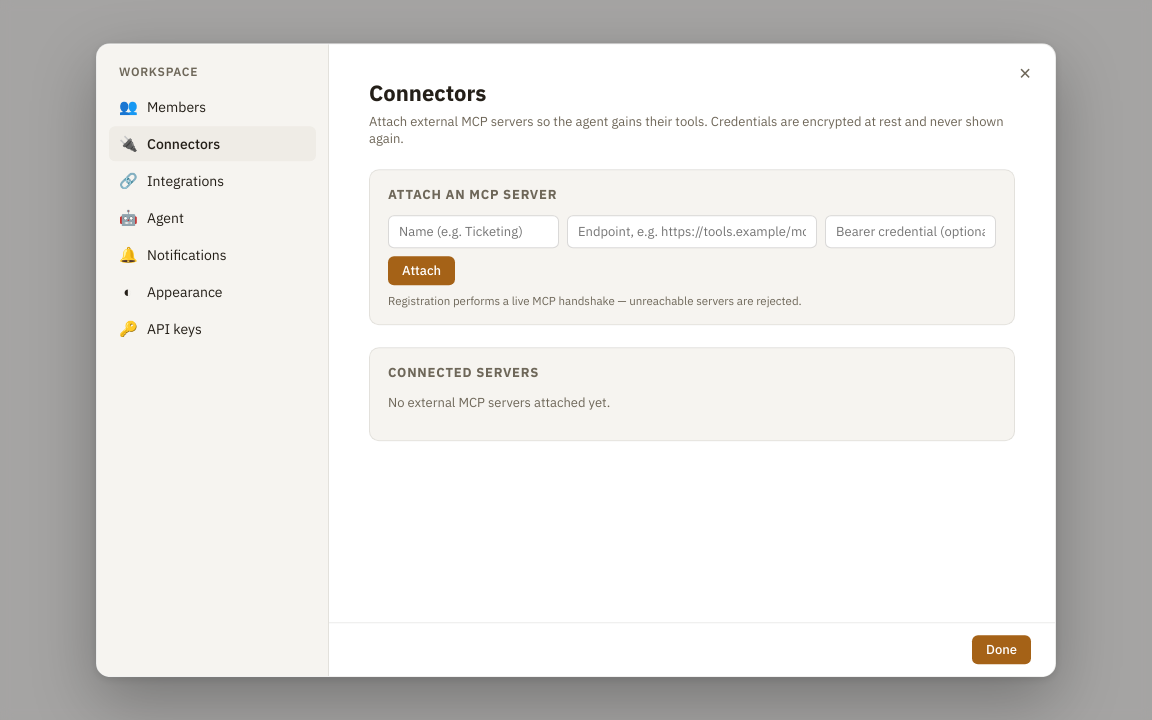
Scenario: SettingsModal › members tab lists members with owner-only role and remove controls
Click the button with test id "settings-tab-members": (212, 107) [109, 89, 316, 124]
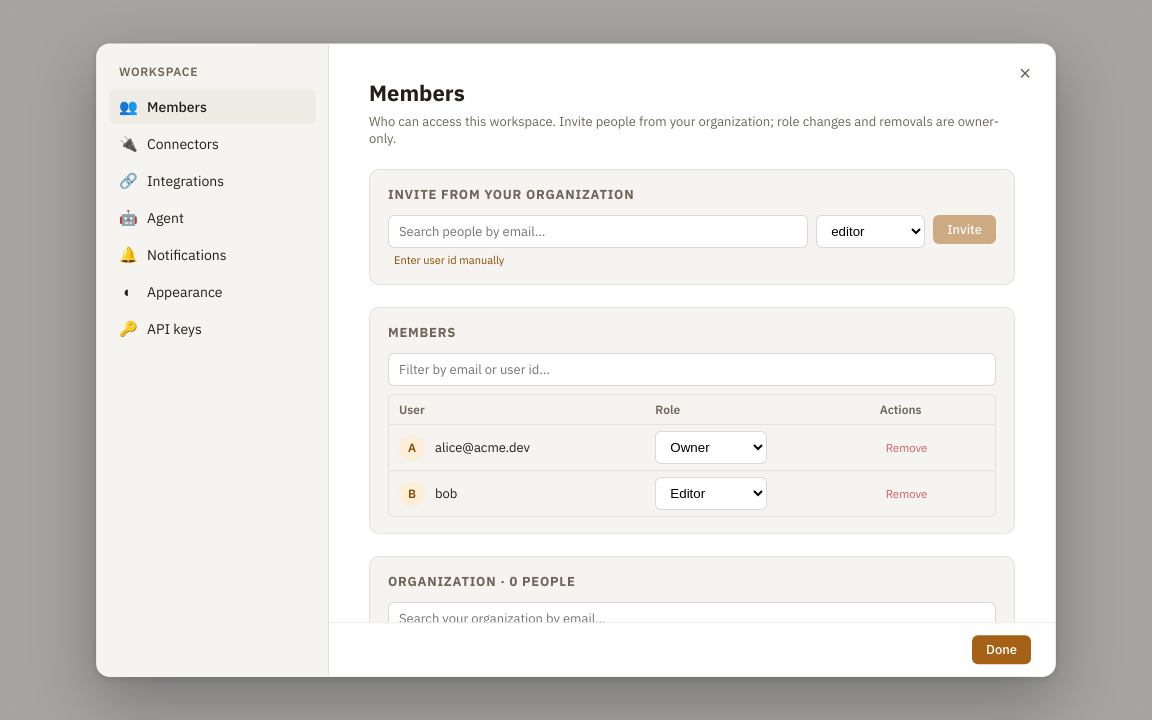
Result: the number of rows with test id "member-row" is 2 at [389, 425, 995, 471]; [389, 471, 995, 516]
Result: the row with test id "member-row" shows "alice@acme.dev" at [435, 439, 530, 456]
Result: the row with test id "member-row" shows "bob" at [435, 485, 457, 502]
